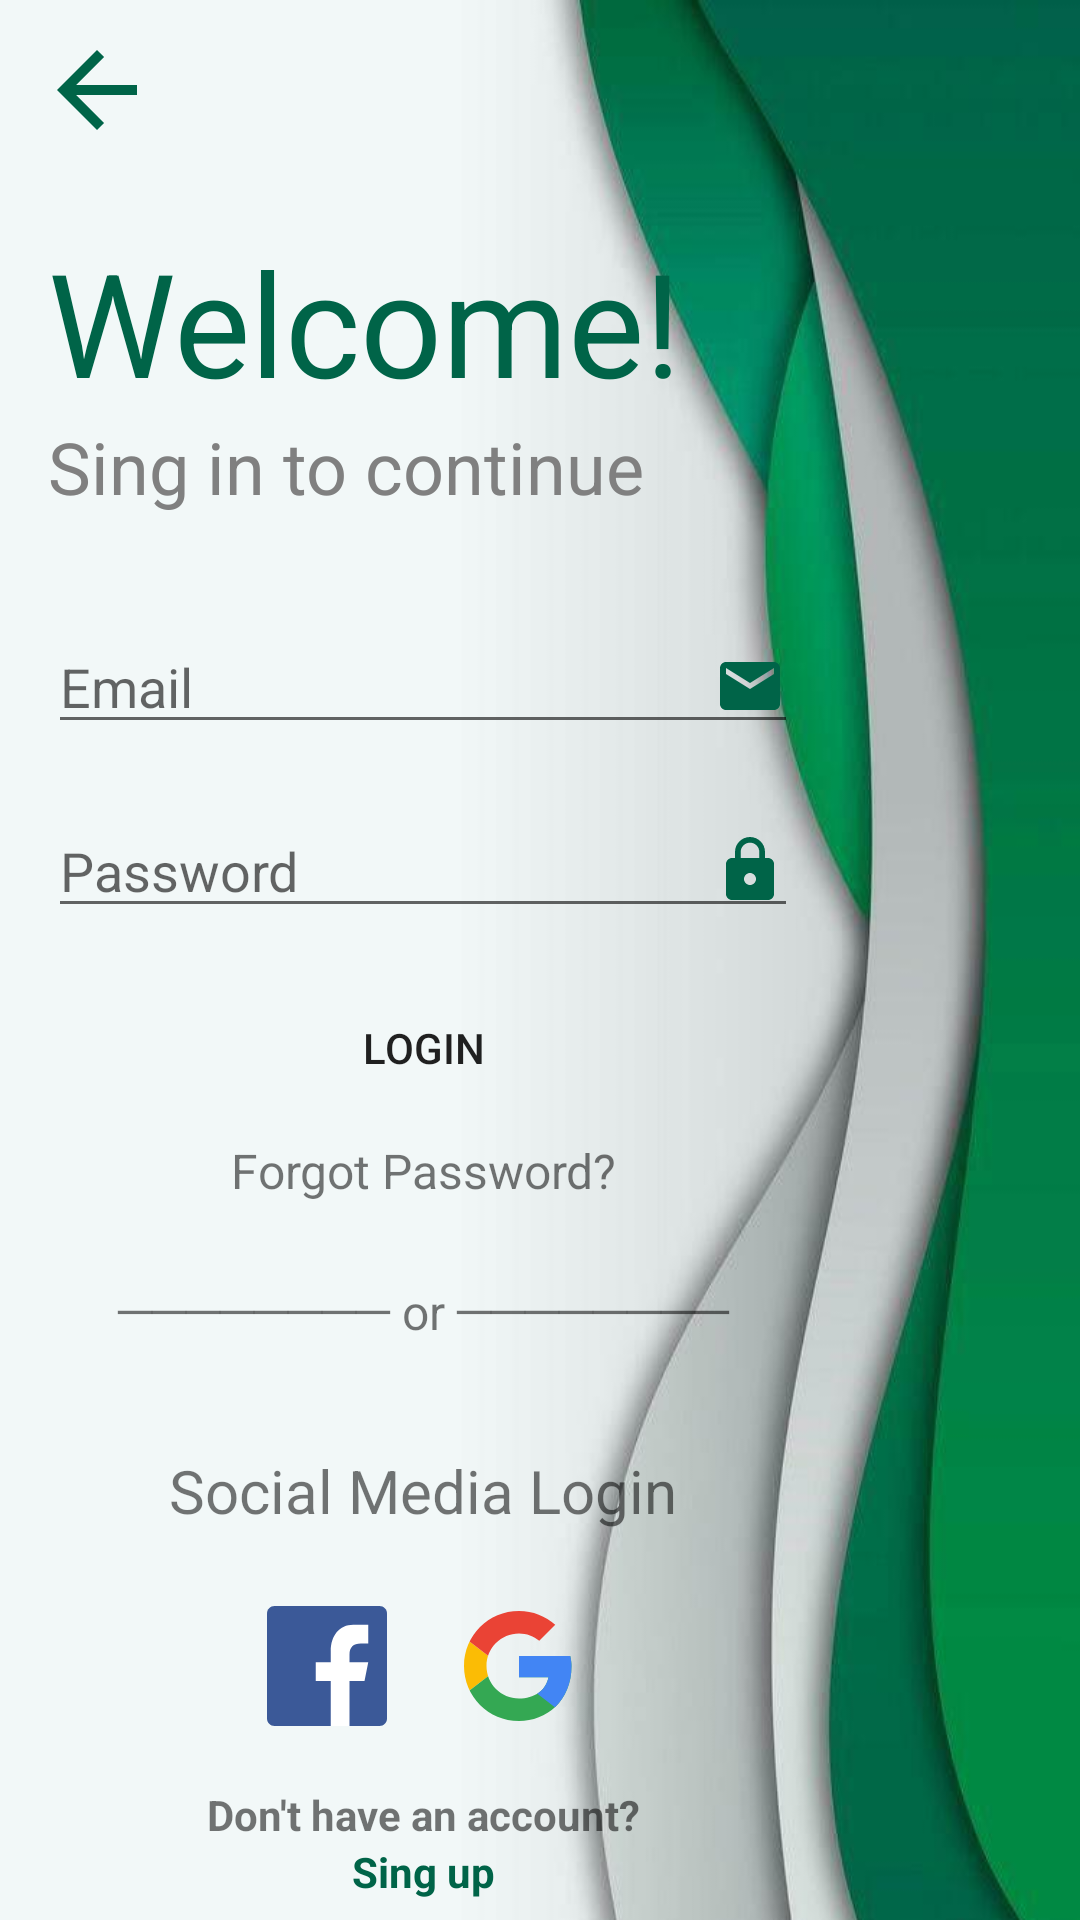

Where to tap for icons on this 1080*1920 app screen, as point (x, y):
arrow back: point (97, 90)
